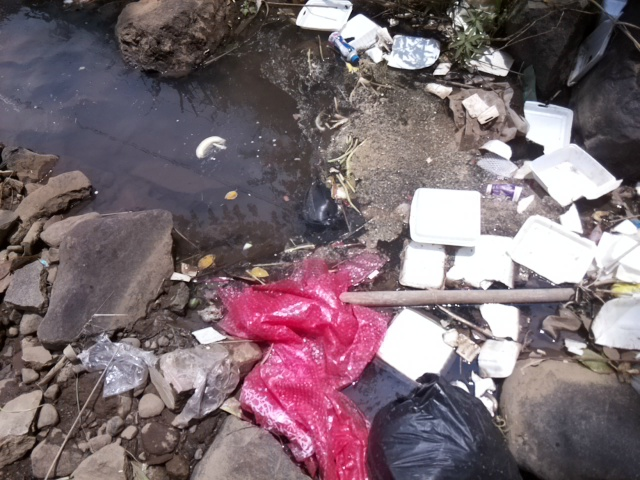Sampah_Botol_Plastik: (326, 31, 362, 64)
Sampah_Plastik: (216, 249, 371, 480), (366, 376, 528, 480), (79, 332, 154, 395), (177, 362, 232, 426), (293, 178, 342, 228)
Sampah_Styrofoam: (508, 97, 626, 203), (373, 304, 459, 384), (507, 214, 592, 292), (407, 184, 486, 249), (473, 298, 522, 379), (450, 236, 518, 294), (396, 235, 450, 291), (593, 293, 640, 351), (385, 27, 440, 72), (291, 1, 356, 34)
